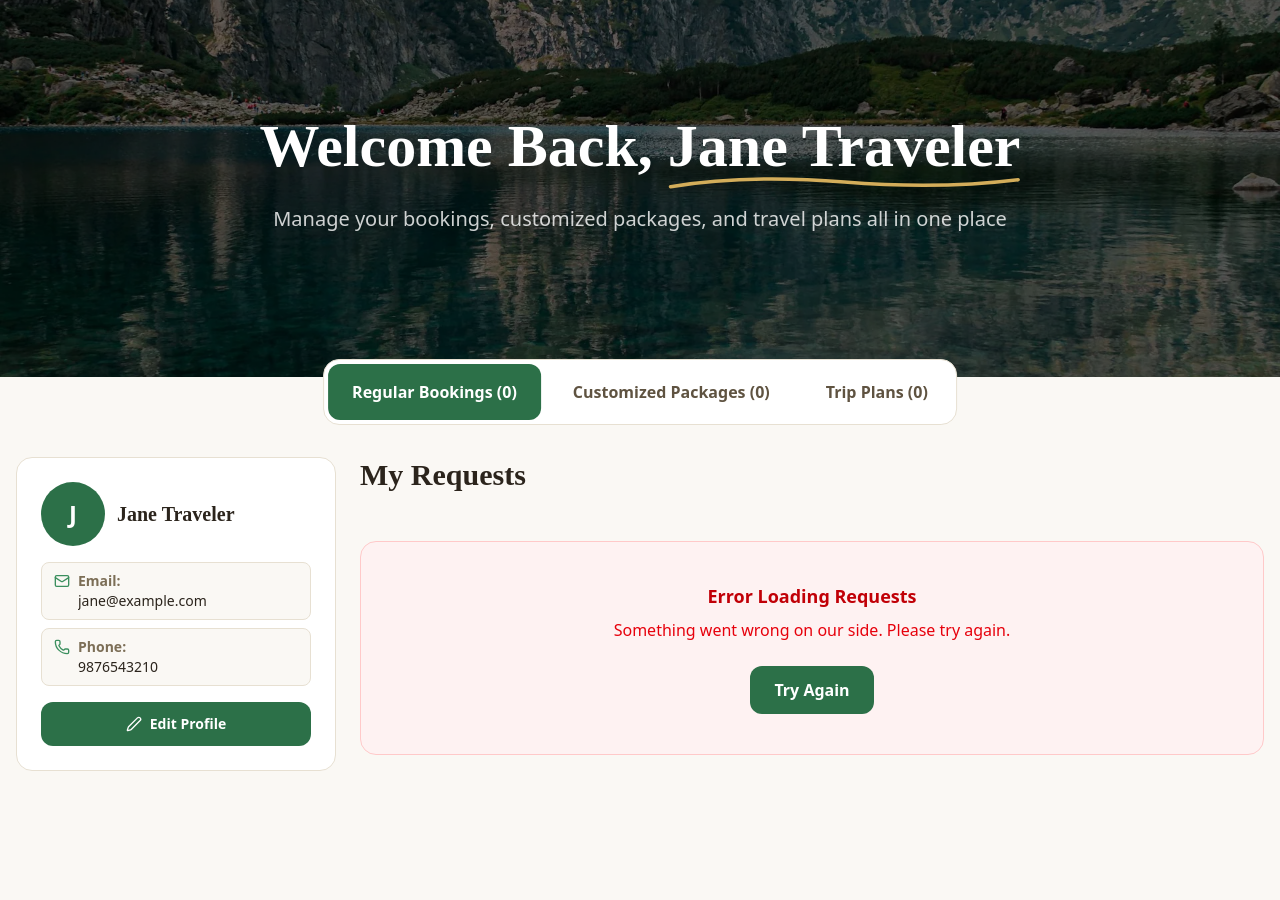
Test: MyAccountContainer › shows an inline error banner with a working retry when the request data fails to load
The width and height of the screenshot is (1280, 900).
Expected: the text "Error Loading Requests" is shown, [707,584,916,608]
Expected: the text "Something went wrong on our side. Please try again." is shown, [614,619,1010,641]
Step 1. Click the button "Try Again" → click(812, 690), box [750,666,874,714]
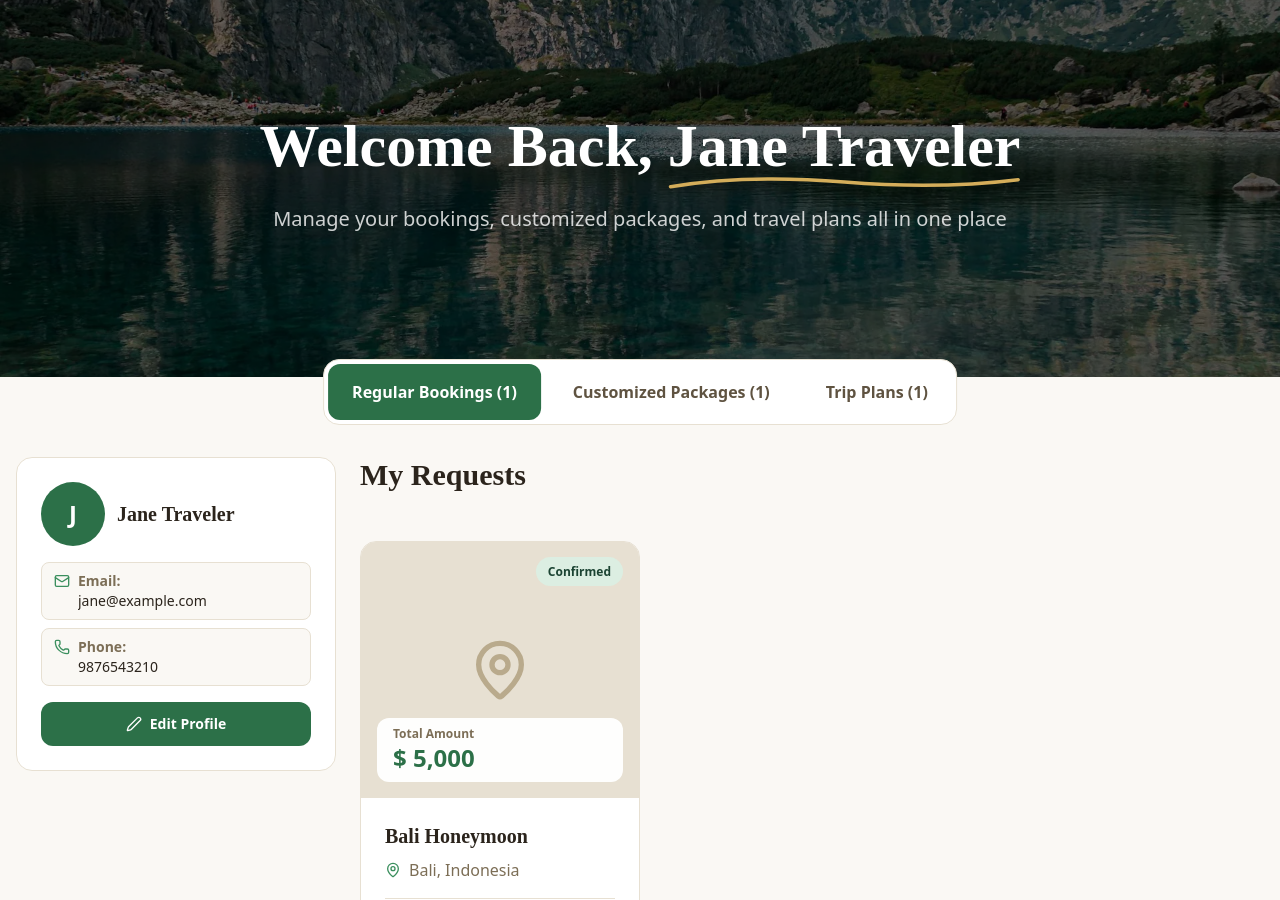
Result: the heading "Bali Honeymoon" is shown at [385,825,528,847]
Result: the text "Error Loading Requests" is gone
